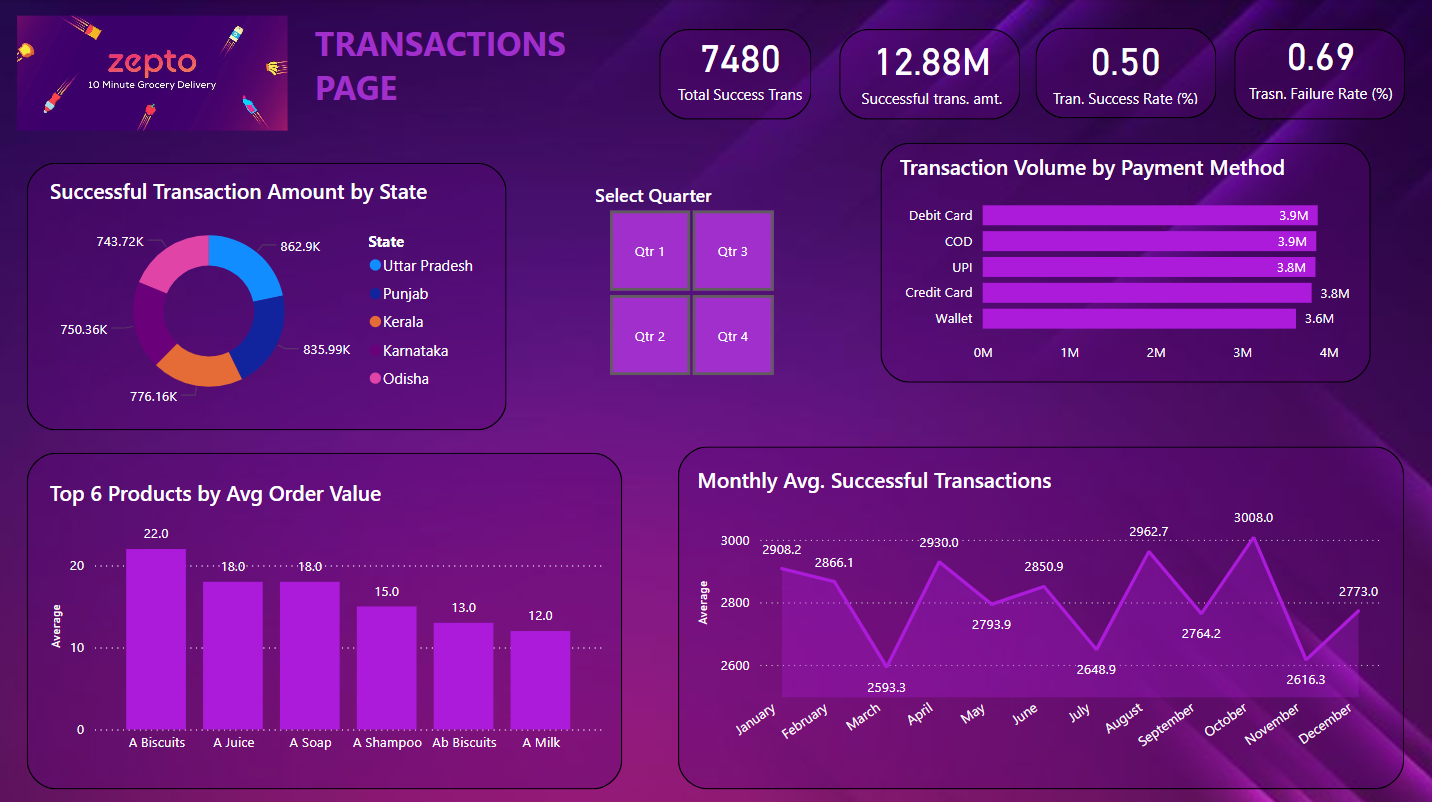

What the dashboard file says about the page in this screenshot:
{"tool":"powerbi","page":{"name":"Transactions Page","canvas":[1280,720],"ordinal":4},"visuals":[{"type":"shape","box":[1101.2,26.9,152.2,80.6],"z":0},{"type":"shape","box":[923.4,25.6,161.2,80.6],"z":1000},{"type":"shape","box":[588.3,26.9,135.6,80.6],"z":2000},{"type":"shape","box":[749.5,26.9,161.2,80.6],"z":3000},{"type":"shape","box":[26.1,146,427.3,238.2],"z":4000},{"type":"shape","box":[785.4,127.6,436.5,213.6],"z":5000},{"type":"shape","box":[605.6,398.1,646.7,305.2],"z":6000},{"type":"shape","box":[26.1,404.2,530.3,299.7],"z":7000},{"type":"card","title":"Successful Transaction","fields":{"Values":["New_Measures.Success_Trans"]},"box":[597.3,15.3,126.6,87],"z":8000},{"type":"card","fields":{"Values":["New_Measures.Success_trans_amt"]},"box":[761,25.6,140.7,72.9],"z":9000},{"type":"card","fields":{"Values":["New_Measures.Transaction_Success_Rate"]},"box":[933.7,25.6,140.7,72.9],"z":10000},{"type":"card","fields":{"Values":["New_Measures.Loss_trans_amt_prct"]},"box":[1105,20.5,145.8,75.5],"z":11000},{"type":"barChart","title":"Transaction Volume by Payment Method","fields":{"Category":["Transactions.Transaction_Mode"],"Y":["New_Measures.Success_trans_amt"]},"box":[798.1,136.9,423.3,195.7],"z":12000},{"type":"areaChart","title":"Monthly Avg. Successful Transactions","fields":{"Category":["Orders.Order_Date.Variation.Date Hierarchy.Month"],"Y":["New_Measures.Successful_Transaction_Amount(Average)"]},"box":[617.7,415,617.7,273.9],"z":13000},{"type":"columnChart","title":"Top 6 Products by Avg Order Value","fields":{"Category":["Products.PName"],"Y":["CountNonNull(Products.PName)"]},"box":[40.9,427.2,502.6,253.2],"z":14000},{"type":"image","box":[12.3,9.9,250.4,112.2],"z":15000},{"type":"donutChart","title":"Successful Transaction Amount by State","fields":{"Category":["Customers.State"],"Y":["New_Measures.Success_trans_amt"]},"box":[41.5,158.3,396.5,215.2],"z":16000},{"type":"slicer","fields":{"Values":["Customers.created_date.Variation.Date Hierarchy.Quarter"]},"box":[519.3,158.6,195.7,184.2],"z":17000},{"type":"textbox","title":"TRANSACTIONS PAGE","box":[277.5,19.2,266,76.7],"z":18000}]}

Visuals, with their boxes in screenshot pixels (x1, y1, x2, y2), scaled from the page's 1280x720 canvas onto the 1432x802 screenshot:
shape: rect(1232, 30, 1402, 120)
shape: rect(1033, 29, 1213, 118)
shape: rect(658, 30, 810, 120)
shape: rect(839, 30, 1019, 120)
shape: rect(29, 163, 507, 428)
shape: rect(879, 142, 1367, 380)
shape: rect(678, 443, 1401, 783)
shape: rect(29, 450, 622, 784)
"Successful Transaction" card: rect(668, 17, 810, 114)
card - New_Measures.Success_trans_amt: rect(851, 29, 1009, 110)
card - New_Measures.Transaction_Success_Rate: rect(1045, 29, 1202, 110)
card - New_Measures.Loss_trans_amt_prct: rect(1236, 23, 1399, 107)
"Transaction Volume by Payment Method" barChart: rect(893, 152, 1366, 370)
"Monthly Avg. Successful Transactions" areaChart: rect(691, 462, 1382, 767)
"Top 6 Products by Avg Order Value" columnChart: rect(46, 476, 608, 758)
image: rect(14, 11, 294, 136)
"Successful Transaction Amount by State" donutChart: rect(46, 176, 490, 416)
slicer - Customers.created_date.Variation.Date Hierarchy.Quarter: rect(581, 177, 800, 382)
"TRANSACTIONS PAGE" textbox: rect(310, 21, 608, 107)
